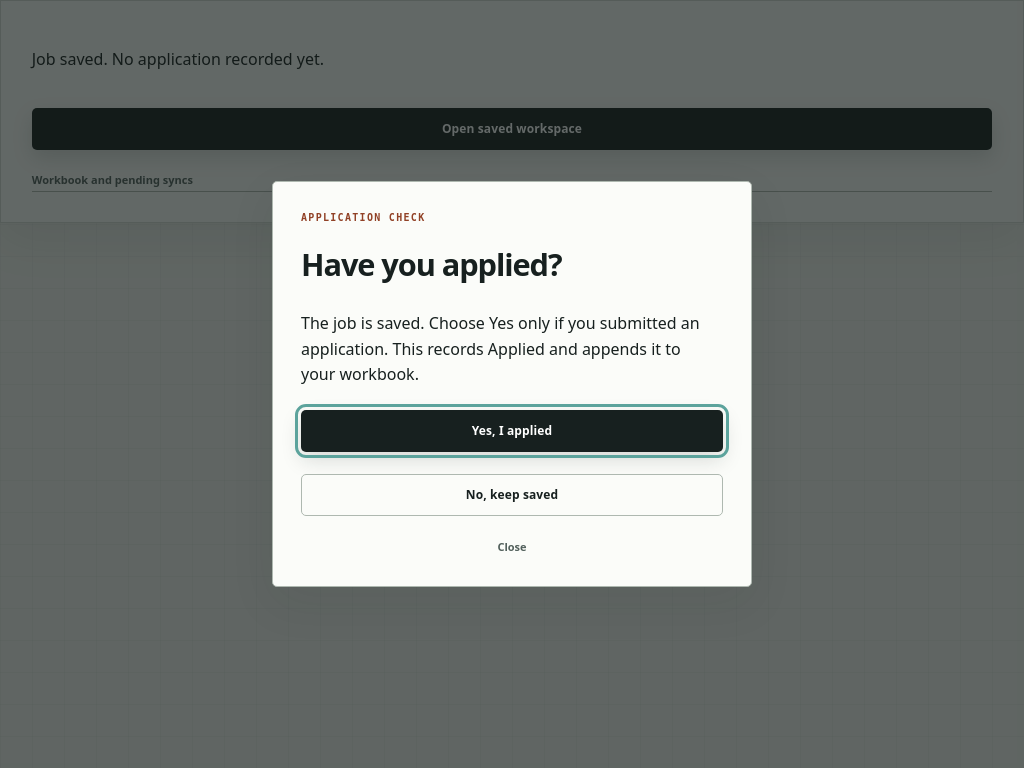
Test: dismissal via No, keep saved never records an application
Click the button "No, keep saved" at [512, 495], box [301,474,723,516]
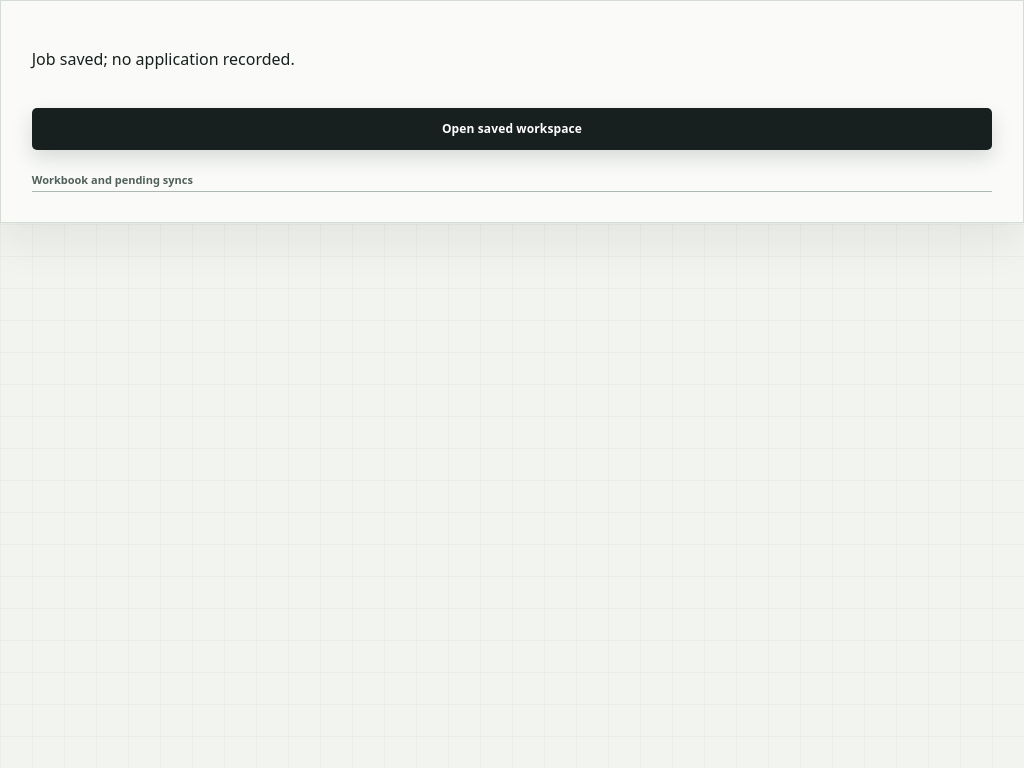
Check: the text "Job saved; no application recorded." is shown, box [32,48,295,70]
